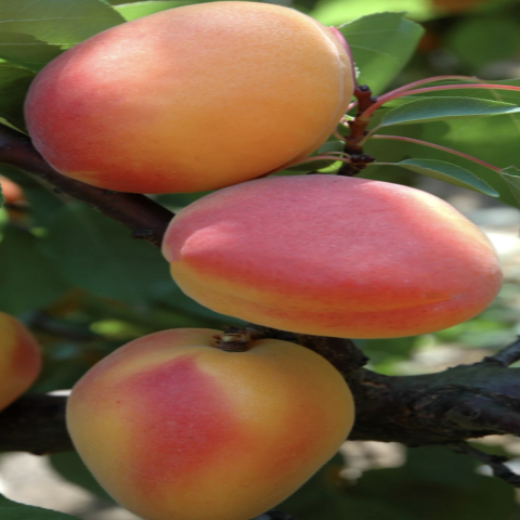mango: (4, 2, 376, 198), (43, 307, 378, 517), (158, 156, 504, 352)
